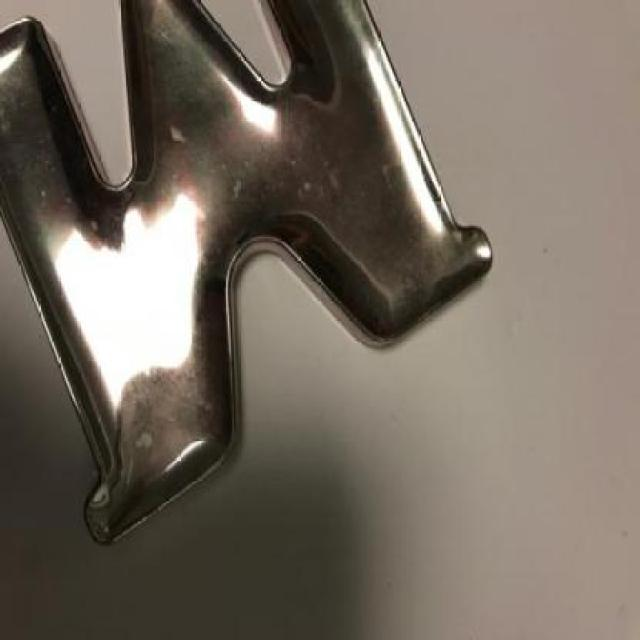METAL: (1, 0, 494, 543)
